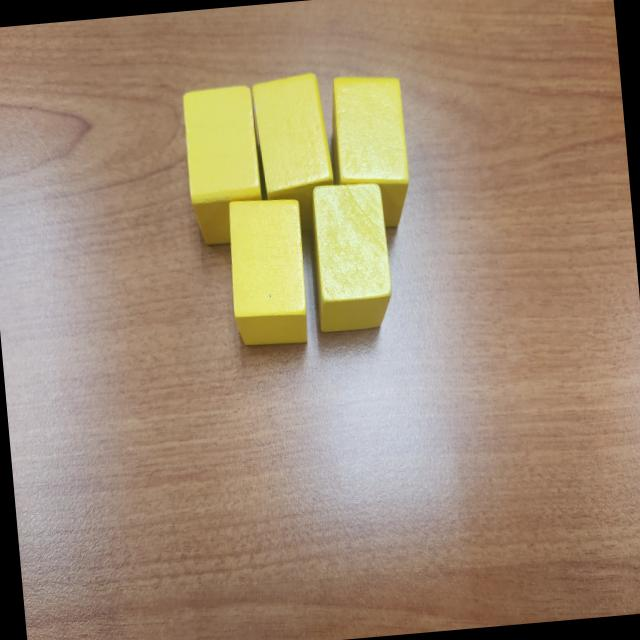yellow: (249, 70, 339, 236), (325, 71, 413, 233), (179, 85, 266, 248), (306, 178, 395, 334), (224, 195, 311, 349)
